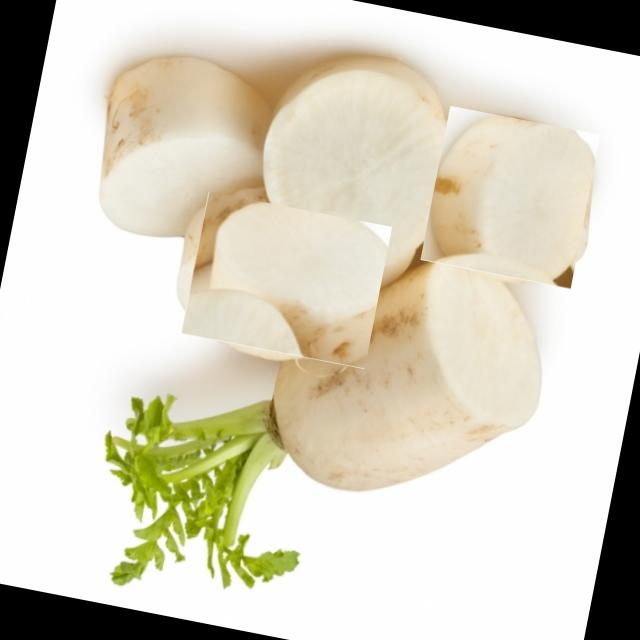radish: (180, 192, 392, 370), (419, 106, 602, 288)
